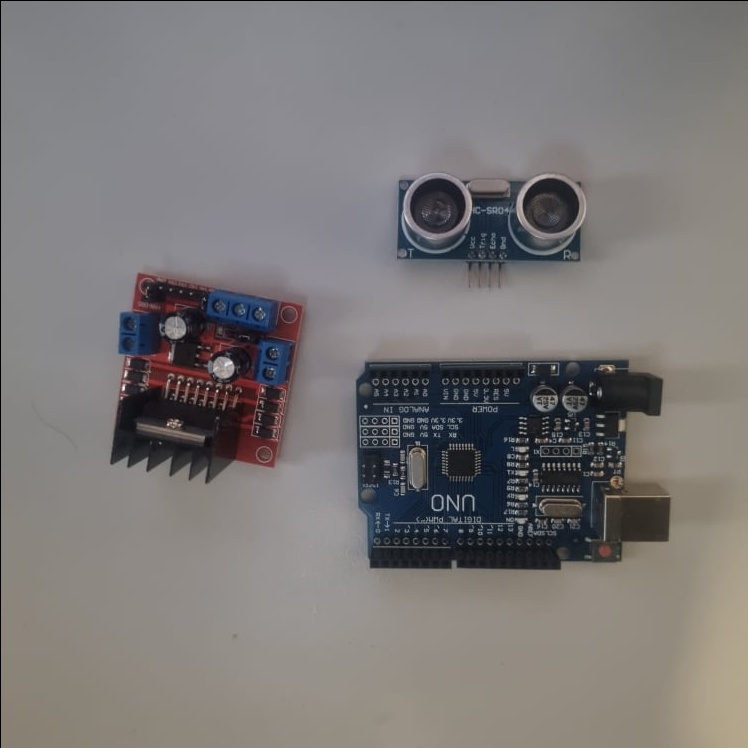MOTOR: (101, 270, 305, 480)
SENSOR: (392, 164, 583, 291)
UNO R3: (352, 355, 669, 572)
